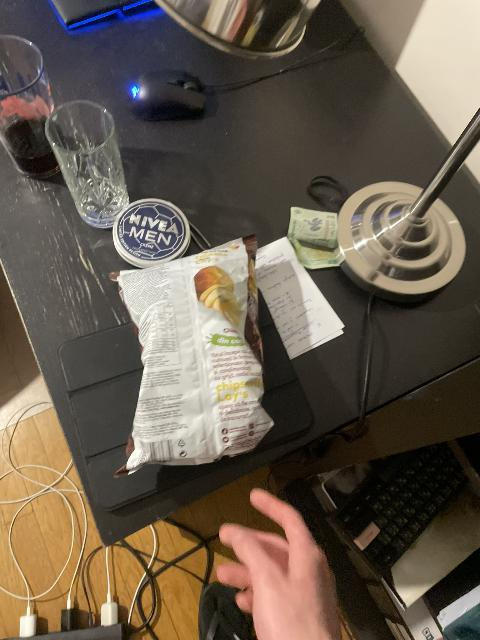Lays Beef Grilled Ribs 125g: (111, 240, 274, 476)
